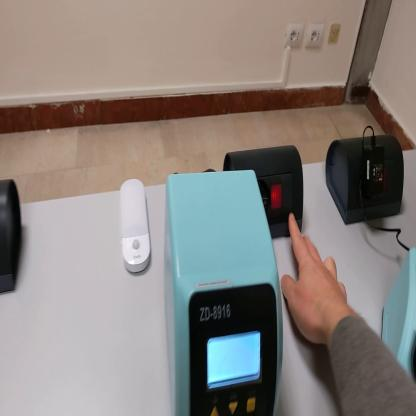hand: (281, 214, 347, 343)
socket: (222, 146, 304, 242), (327, 132, 406, 226)
welder base: (379, 247, 416, 381)
welder station: (166, 168, 285, 416)
